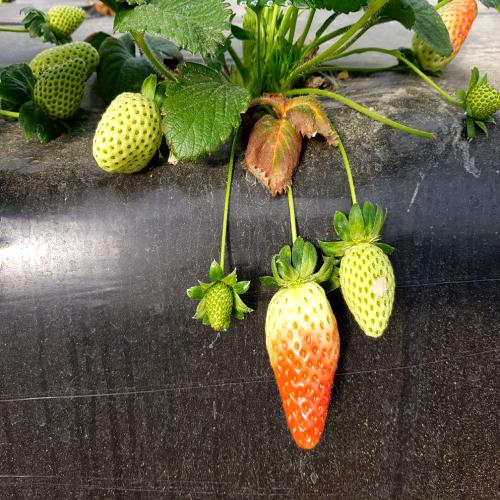partially-ripe: (258, 272, 344, 455)
